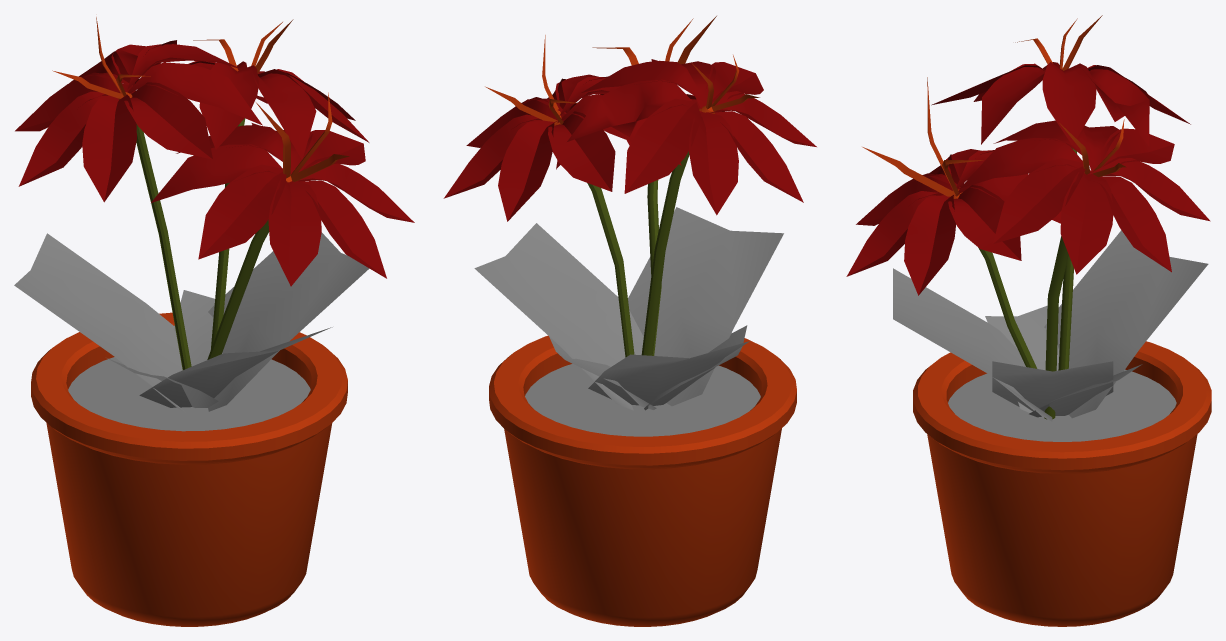
File: FlowerPotRed001.FBX
3 renders of one model, left to right at view 1: azimuth 30°, elevation 25°; view 2: azimuth 150°, elevation 25°; view 3: azimuth 270°, elevation 25°, orthographic. The views are drawn at different scales.
Visible parts, largest first — view 1: FlowerPotRed001; view 2: FlowerPotRed001; view 3: FlowerPotRed001.
Part boxes in pixels (x1,y1,x2,y2): FlowerPotRed001: (14, 17, 414, 626); FlowerPotRed001: (443, 16, 816, 626); FlowerPotRed001: (846, 15, 1211, 626).
Bounding box in the file's own units: 16.9 × 26.97 × 16.53.
